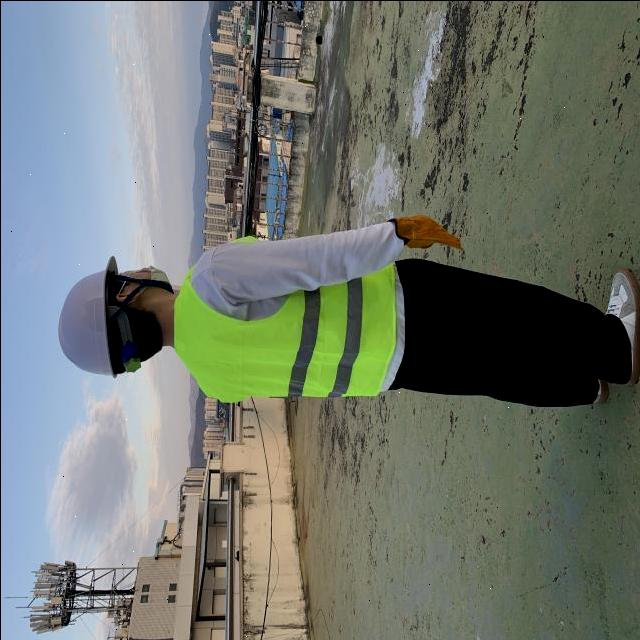Boots: (594, 255, 640, 392)
Helmet: (46, 233, 128, 389)
Vest: (167, 240, 397, 411)
